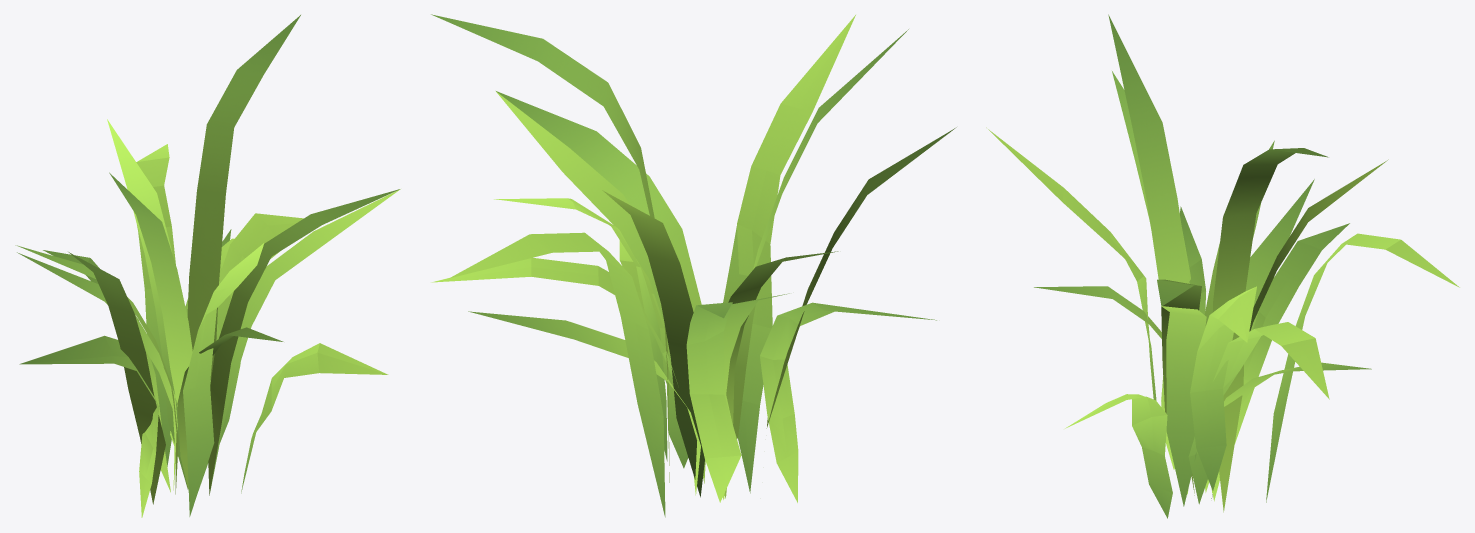
The model's file is Mesh_Grass.fbx.
The picture shows the model from 3 angles, left to right: view 1: azimuth 30°, elevation 25°; view 2: azimuth 150°, elevation 25°; view 3: azimuth 270°, elevation 25°; orthographic projection. The views are drawn at different scales.
Parts seen in each view (by area): view 1: Mesh_Grass_03, Mesh_Grass_02, Mesh_Grass_01; view 2: Mesh_Grass_02, Mesh_Grass_03, Mesh_Grass_01; view 3: Mesh_Grass_02, Mesh_Grass_01, Mesh_Grass_03.
Part boxes in pixels (x1,y1,x2,y2): Mesh_Grass_03: (15,15,399,504); Mesh_Grass_02: (19,144,388,517); Mesh_Grass_01: (17,172,400,492); Mesh_Grass_02: (431,15,936,517); Mesh_Grass_03: (431,14,956,498); Mesh_Grass_01: (468,29,908,499); Mesh_Grass_02: (986,127,1459,518); Mesh_Grass_01: (1108,14,1371,506); Mesh_Grass_03: (1034,71,1388,512).
Bounding box in the file's own units: 62.04 × 63.86 × 62.01.
